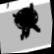not correct: (7, 0, 45, 43)
